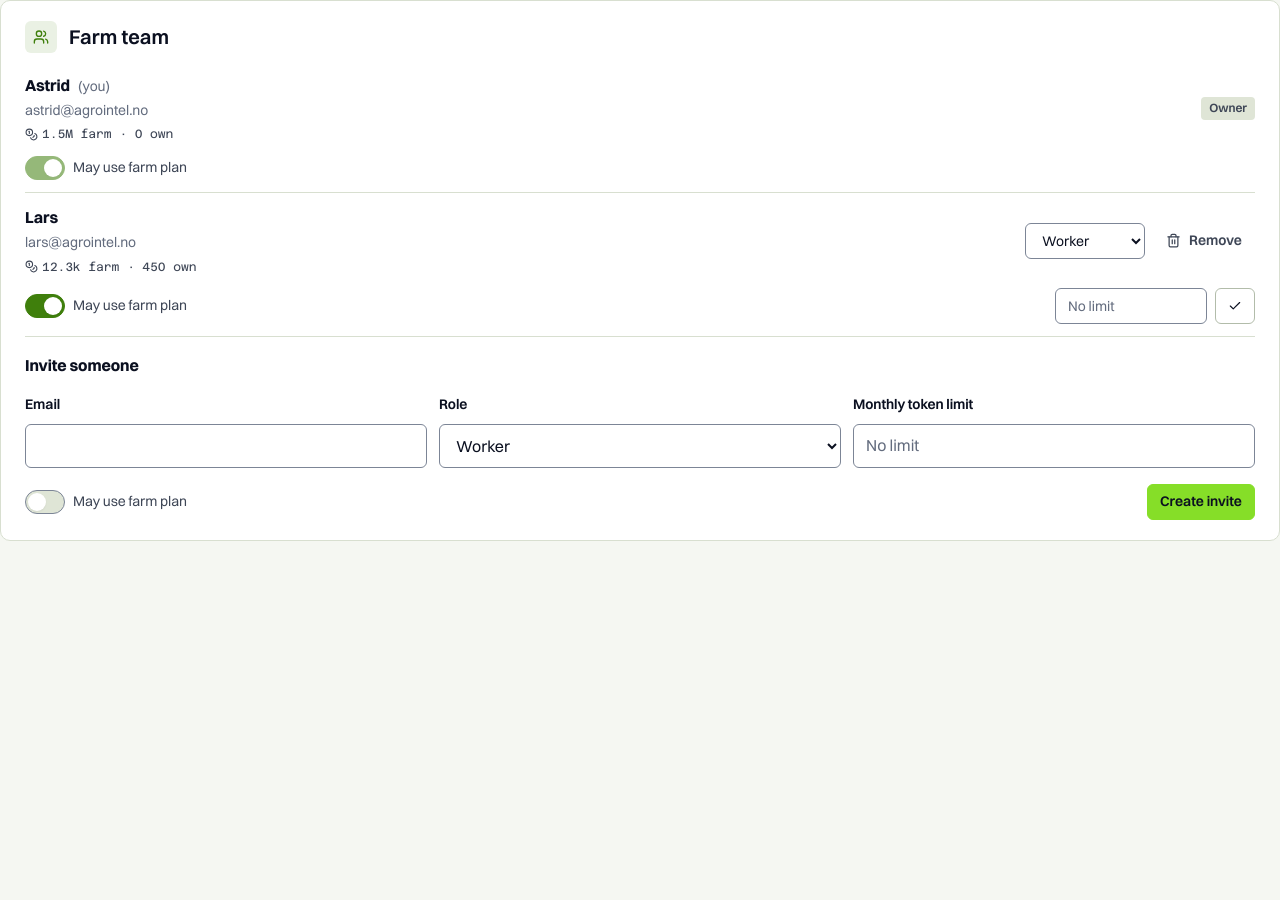
it: MembersCard permissions, limits, compact usage, invites, and leaving › keeps owners forced on, updates member useFarmPlan and monthlyTokenLimit, formats compact usage, and confirms removal
Earlier steps of the test are not shown.
Later steps or results of the test are not shown.
Press Enter in the number field with test id "member-token-limit", box [1055,288,1207,324]
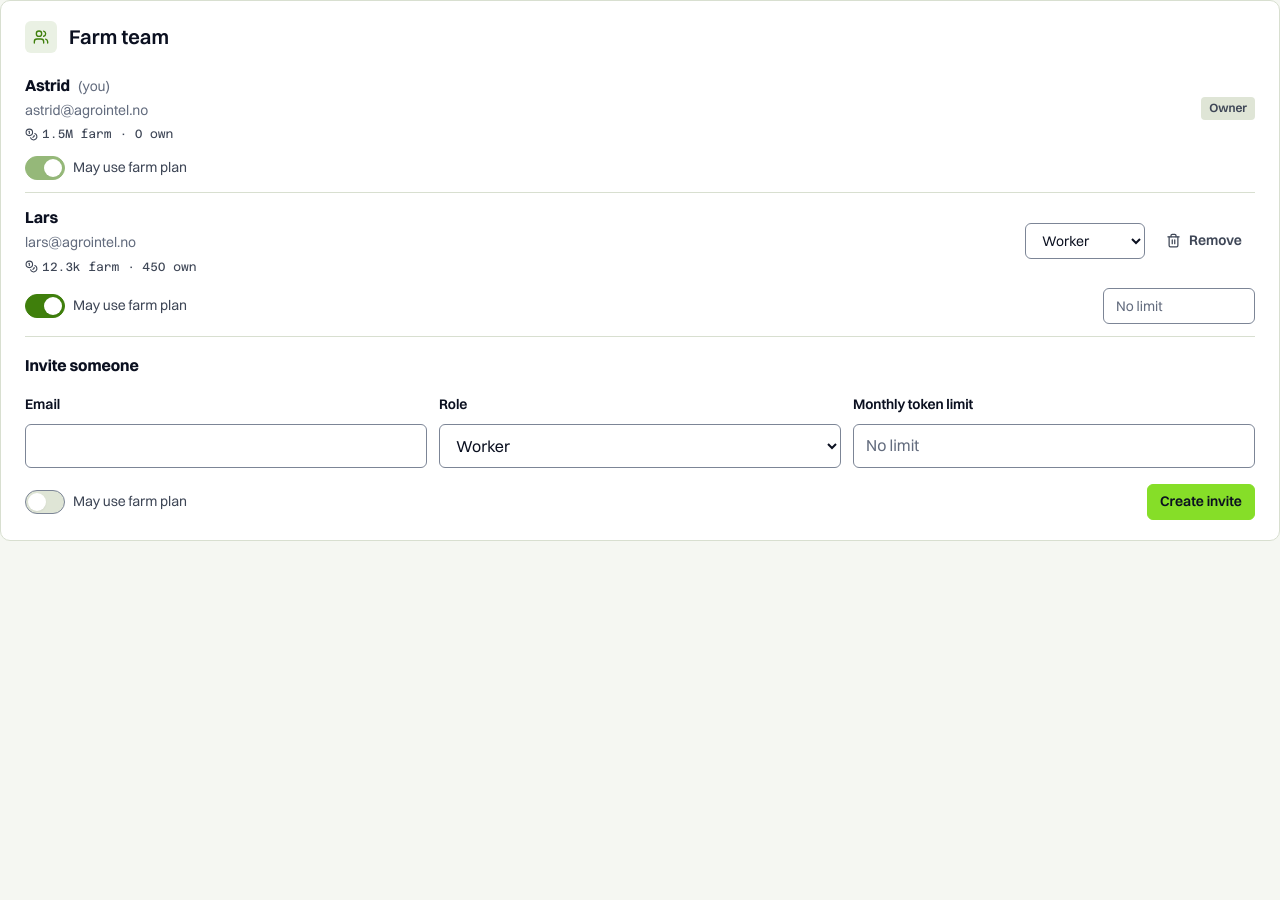
Expected: the number field with test id "member-token-limit" is enabled, [1103,288,1255,324]
Expected: the switch with test id "invite-use-farm-plan" is not checked, [25,490,65,514]
Select "Owner" in the dropdown with test id "invite-role" at (640, 446), box [439,424,841,468]
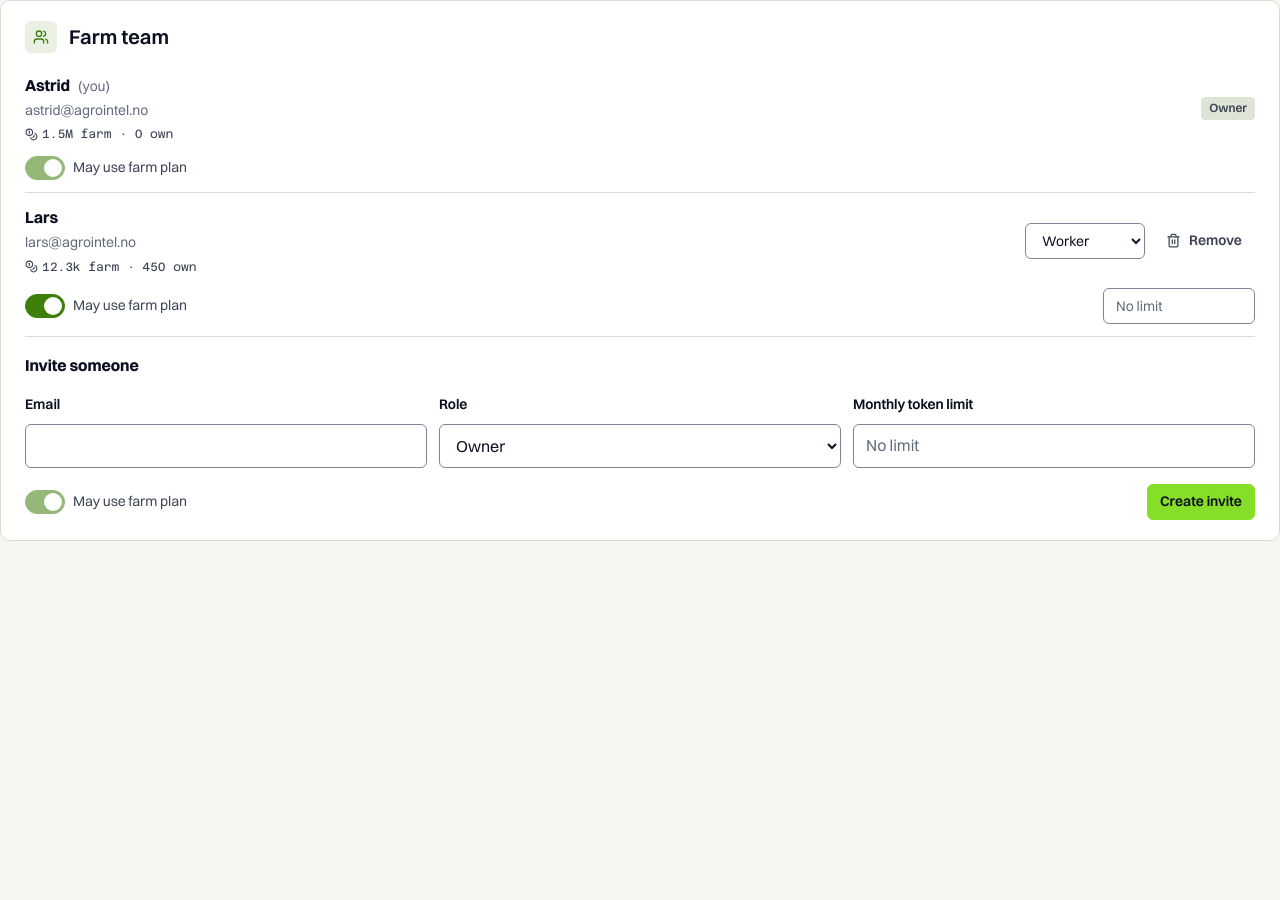
Expected: the switch with test id "invite-use-farm-plan" is checked, [25,490,65,514]
Expected: the switch with test id "invite-use-farm-plan" is disabled, [25,490,65,514]
Select "Worker" in the dropdown with test id "invite-role" at (640, 446), box [439,424,841,468]
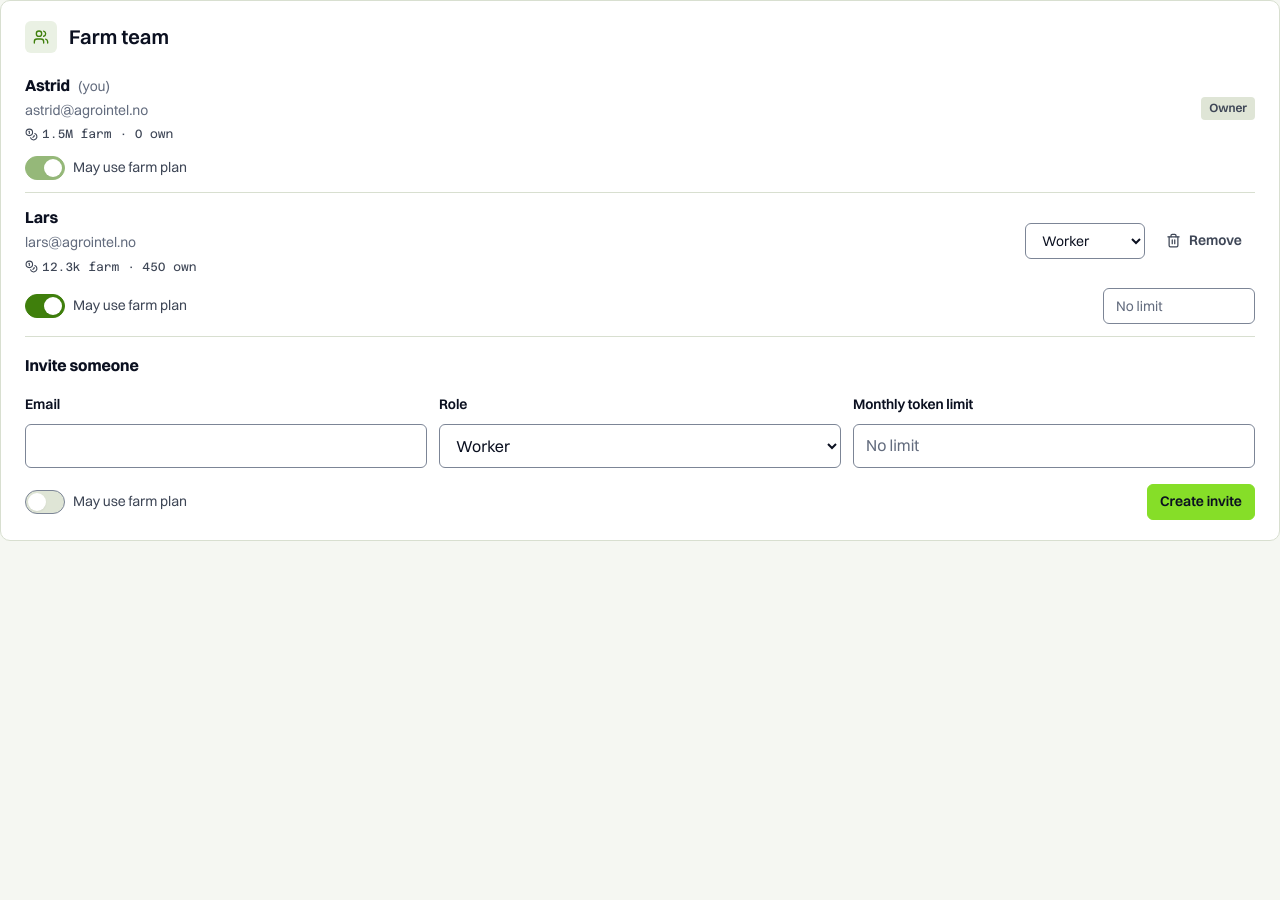
Expected: the switch with test id "invite-use-farm-plan" is not checked
Click the switch with test id "invite-use-farm-plan".
click(45, 502)  # box [25,490,65,514]
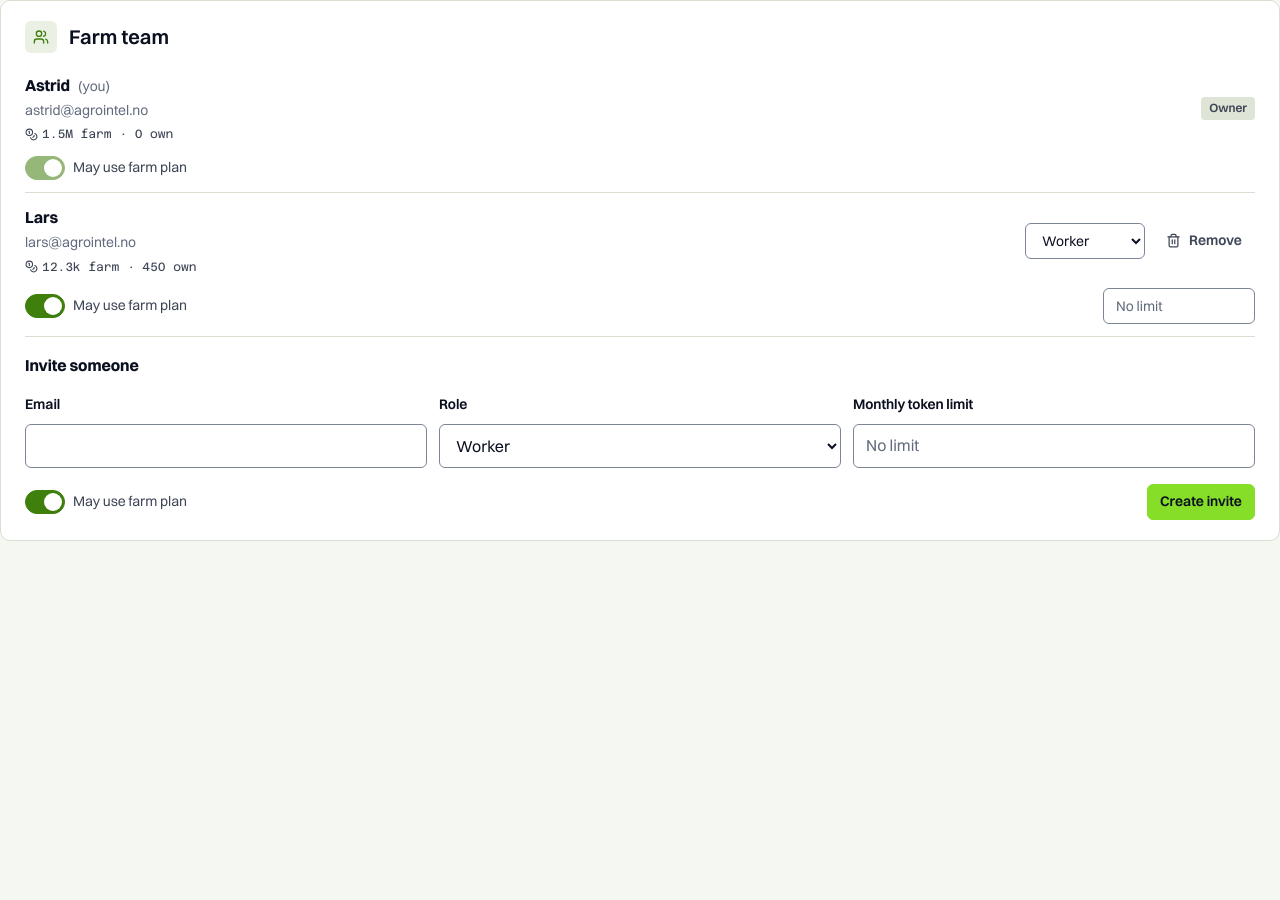
Type "maja@agrointel.no" into the field with test id "invite-email".
click(226, 446); type("maja@agrointel.no")  # box [25,424,427,468]
Type "25000" into the number field with test id "invite-token-limit".
click(1054, 446); type("25000")  # box [853,424,1255,468]
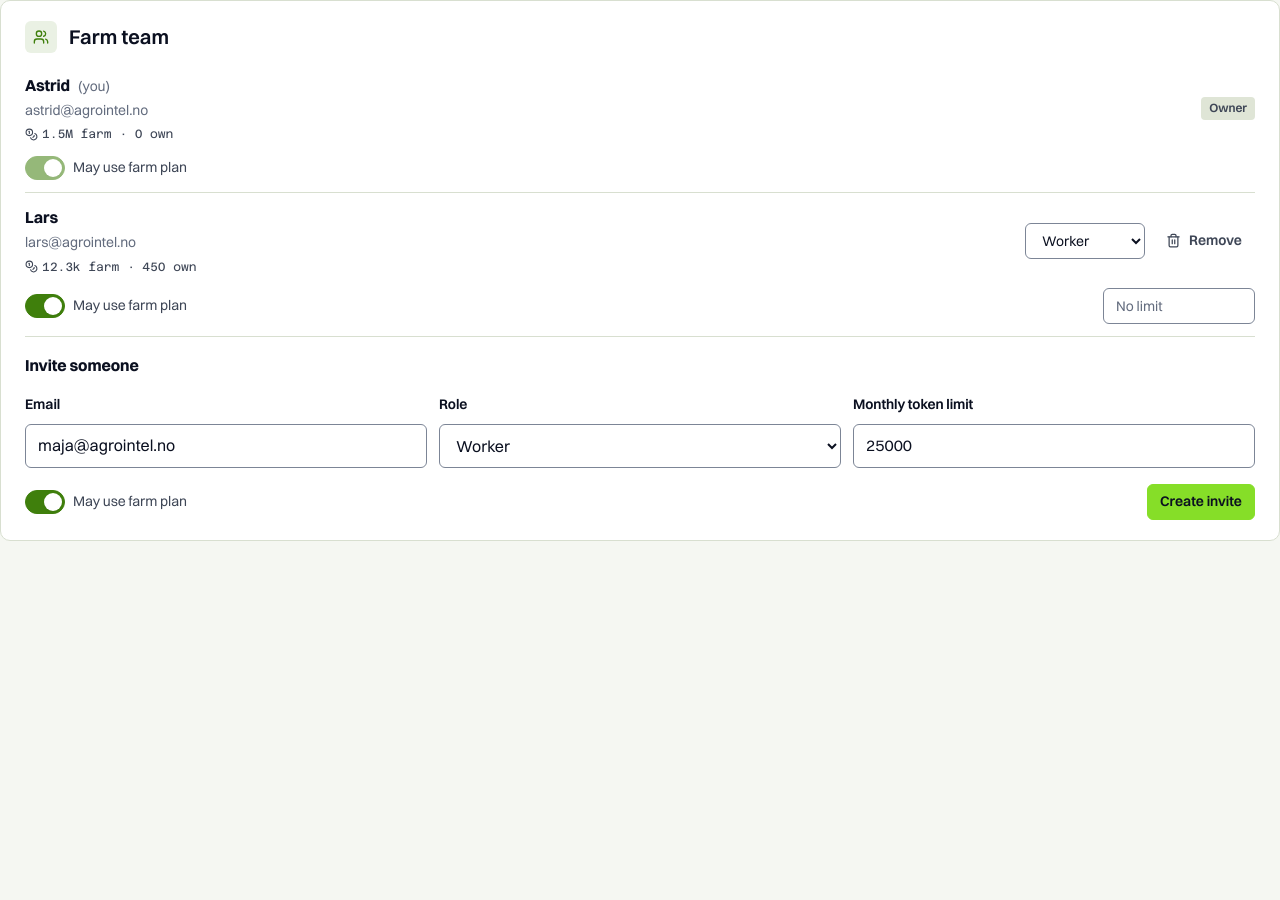
Submit the form with test id "invite-form", box [25,336,1255,520]
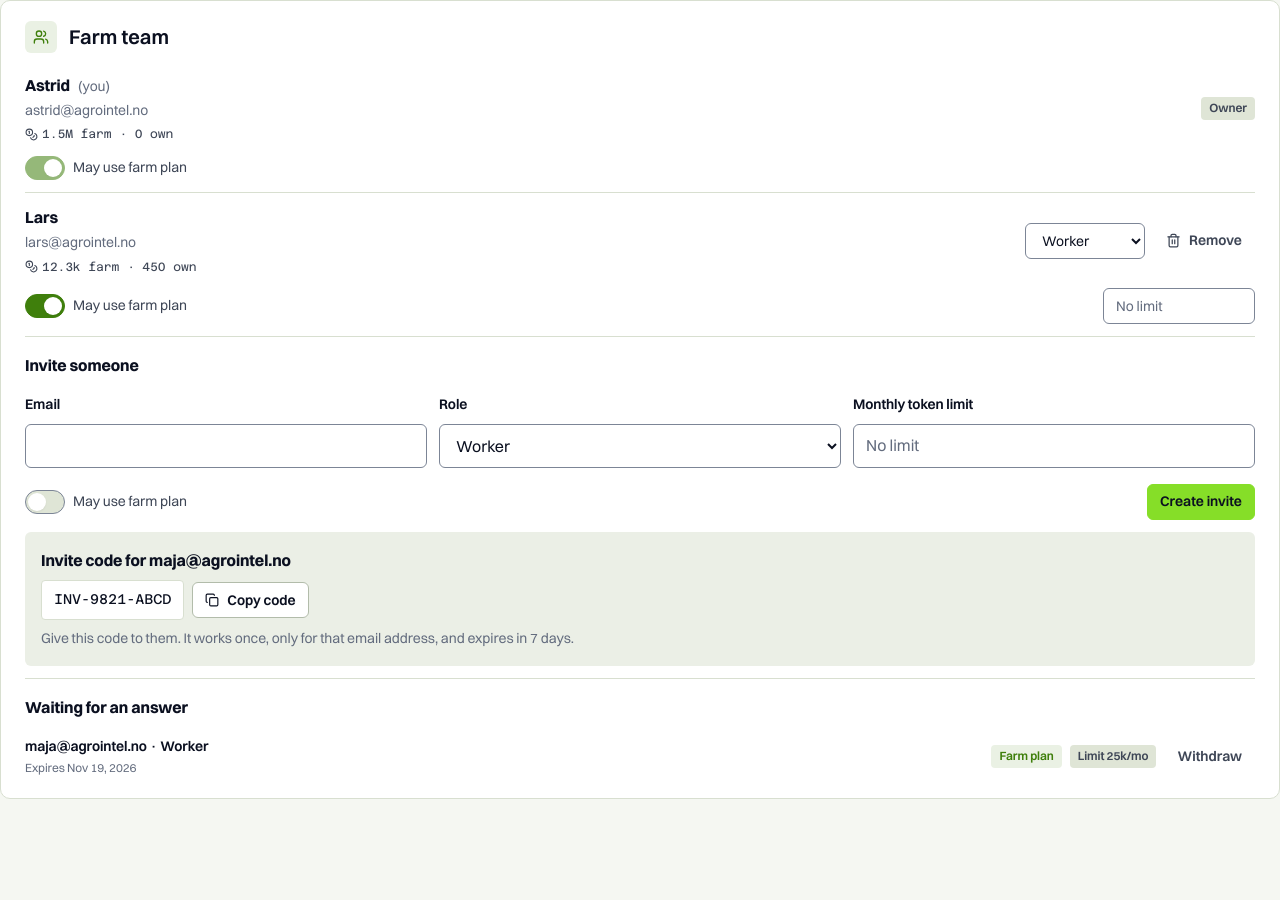
Expected: the text with test id "invite-code" reads "INV-9821-ABCD", [54,591,171,607]
Click the button with test id "invite-code-copy".
click(251, 600)  # box [192,582,309,618]
Expected: the text "Farm plan" is shown, [991,745,1062,768]
Expected: the text with test id "invite-limit-badge" shows "25k", [1078,748,1148,763]
